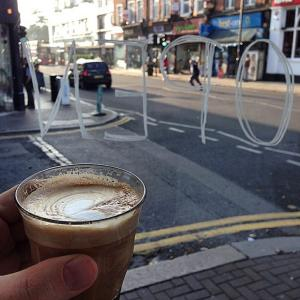Vehicle-registration-plate: (95, 77, 103, 80)
